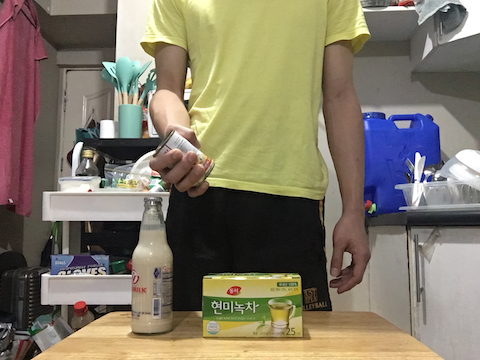bottle: (126, 193, 180, 336)
box: (199, 271, 308, 341)
can: (150, 132, 217, 177)
grab: (146, 146, 214, 198)
